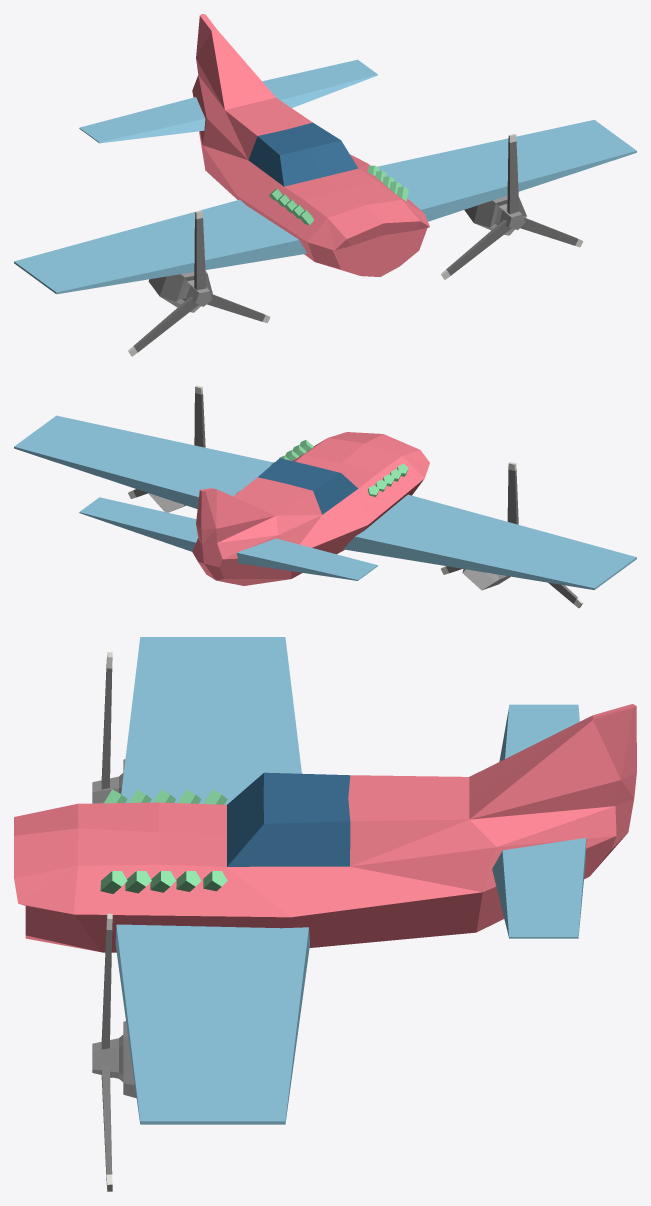
File: char_3.fbx
3 renders of one model, top to bottom at view 1: azimuth 30°, elevation 25°; view 2: azimuth 150°, elevation 25°; view 3: azimuth 270°, elevation 25°, orthographic. The views are drawn at different scales.
Parts seen in each view (by area): view 1: char_3; view 2: char_3; view 3: char_3.
Boxes of the visible parts, x1,y1,x2,y2 form: char_3: (14,14,636,356); char_3: (14,385,636,608); char_3: (14,637,636,1191).
Bounding box in the file's own units: 404 × 116 × 220.
